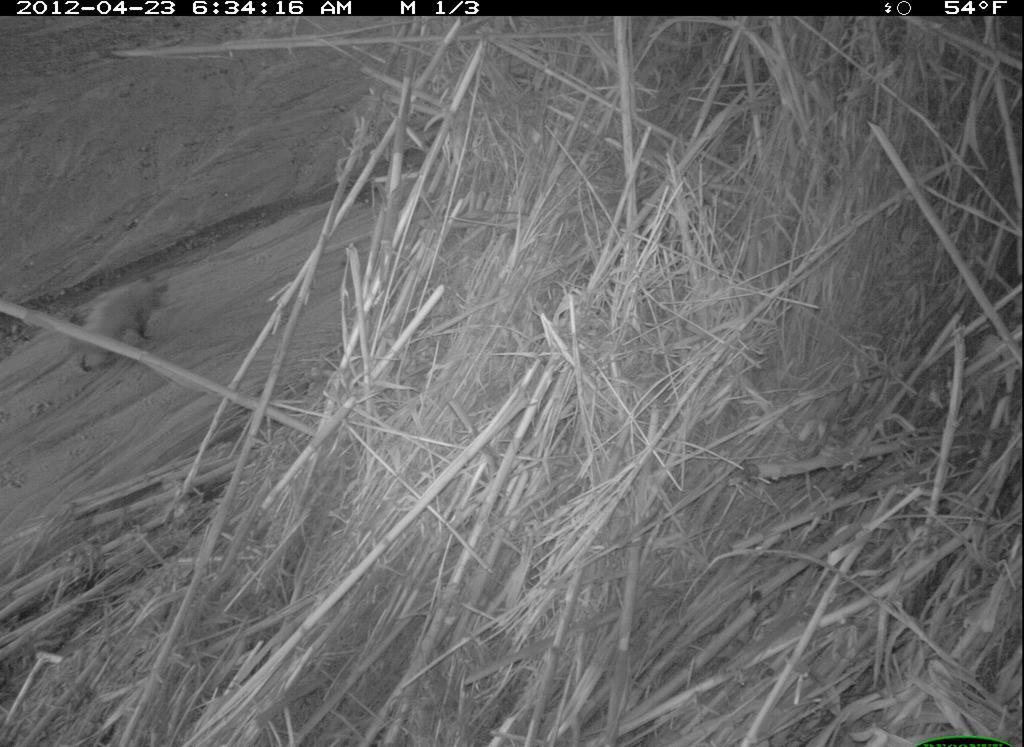opossum: (63, 269, 182, 386)
